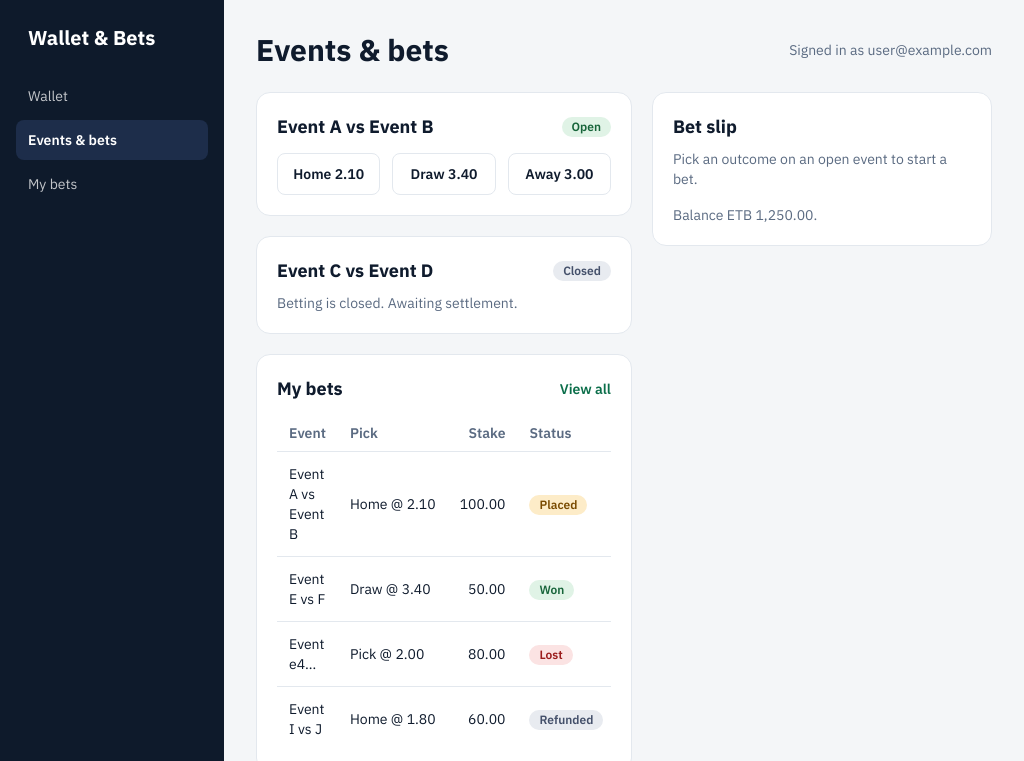
Test: Events & bets page › selecting an outcome fills the slip; the potential payout matches the design (100.00 @ 2.10 = 210.00)
Expected: the text "Pick an outcome on an open event to start a bet." is shown, [673,149,971,189]
Click the button "Home 2.10" at (329, 174), box [277,153,380,195]
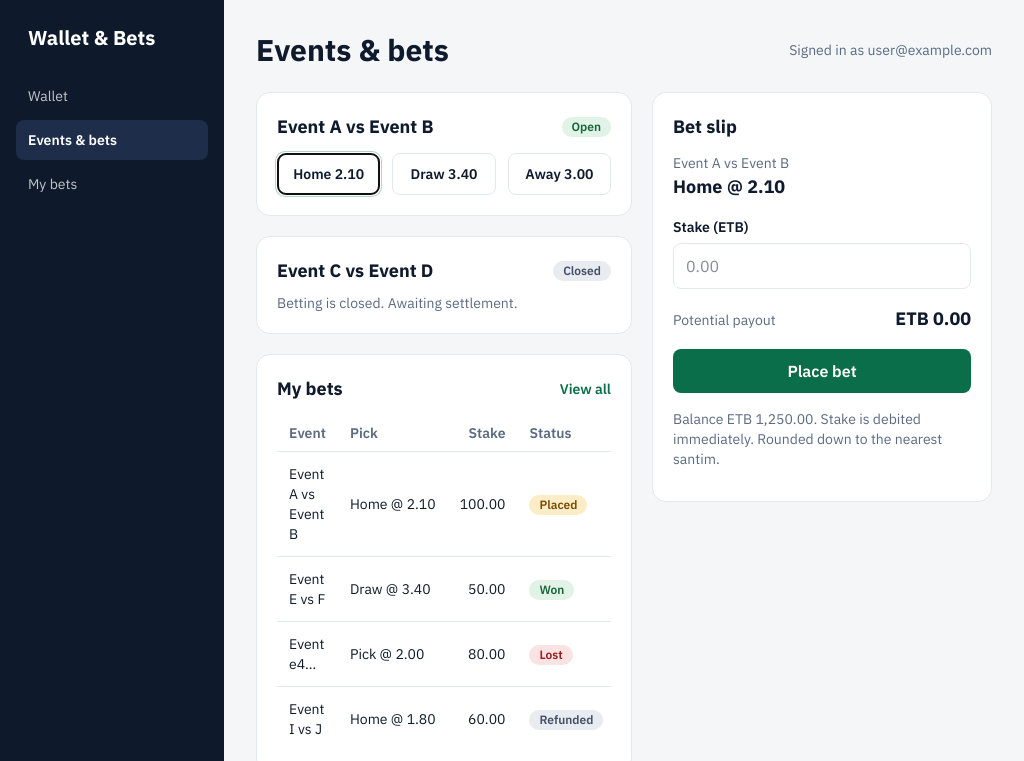
Expected: the text "Event A vs Event B" is shown, [673,154,789,172]
Expected: the text "Home @ 2.10" is shown, [673,175,785,198]
Type "100.00" into the field labelled "Stake (ETB)" at (822, 266), box [673,243,971,289]
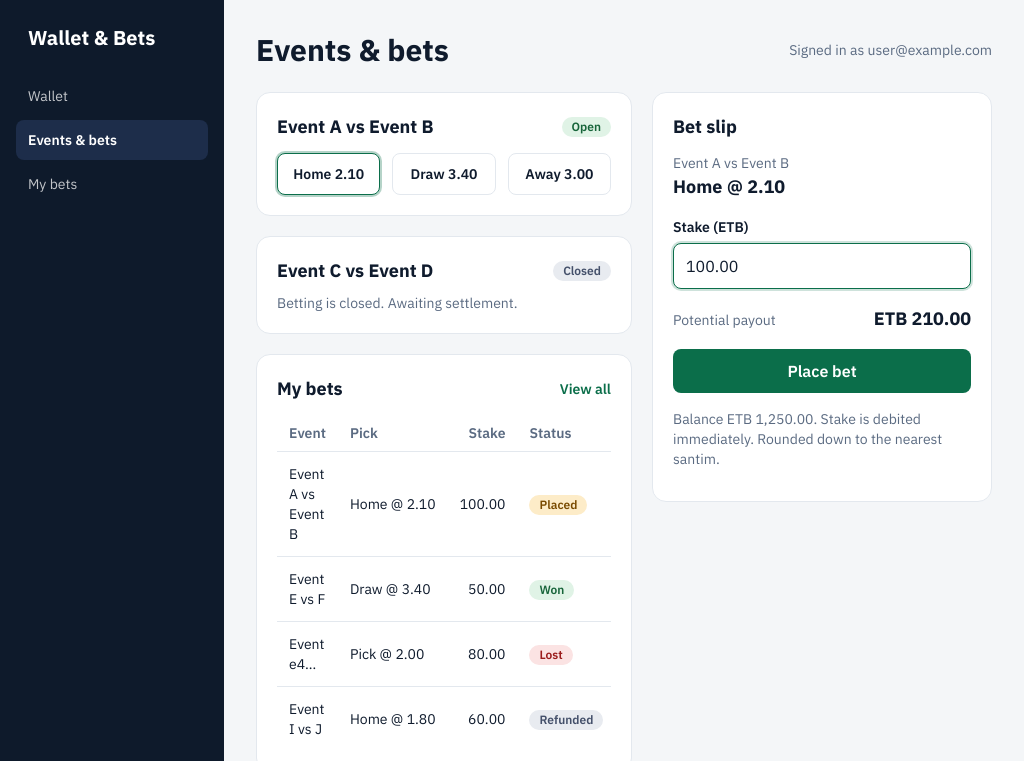
Expected: the text "Balance ETB 1,250.00." is shown, [673,409,971,469]
Expected: the text "ETB 210.00" is shown, [874,305,971,333]
